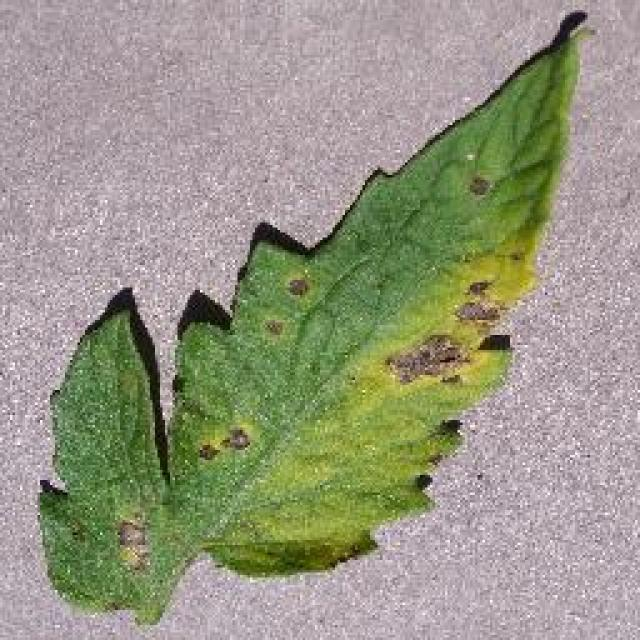Tomato Septoria spot leaf: (37, 33, 582, 607)
